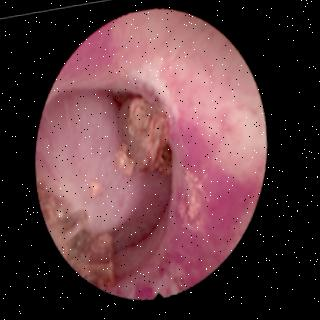stone: (42, 183, 119, 286), (120, 100, 175, 175), (118, 145, 136, 178), (93, 184, 106, 195)
